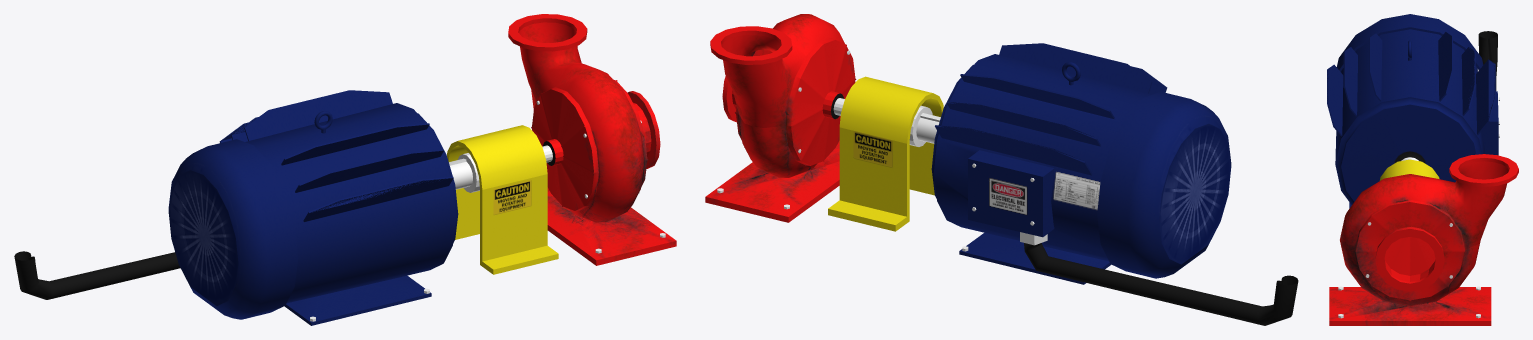
The model's file is pump.fbx.
The picture shows the model from 3 angles, left to right: view 1: azimuth 30°, elevation 25°; view 2: azimuth 150°, elevation 25°; view 3: azimuth 270°, elevation 25°; orthographic projection. The views are drawn at different scales.
Visible parts, largest first — view 1: Pump4; view 2: Pump4; view 3: Pump4.
Part boxes in pixels (box(x1,y1,x2,y2)): Pump4: box(14, 14, 676, 325); Pump4: box(705, 14, 1298, 325); Pump4: box(1327, 14, 1518, 325).
Bounding box in the file's own units: 3.61 × 1.06 × 1.19.
